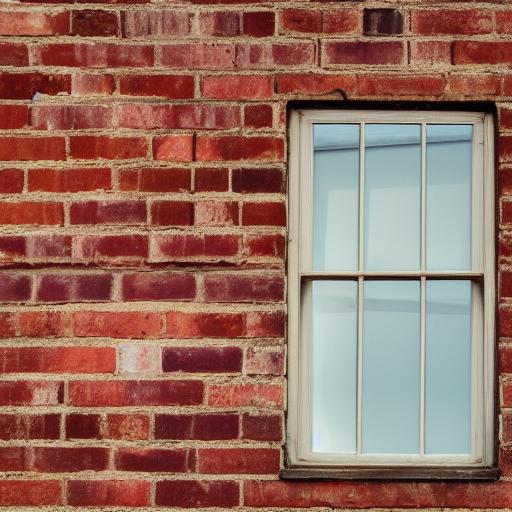Window: (278, 101, 503, 483)
